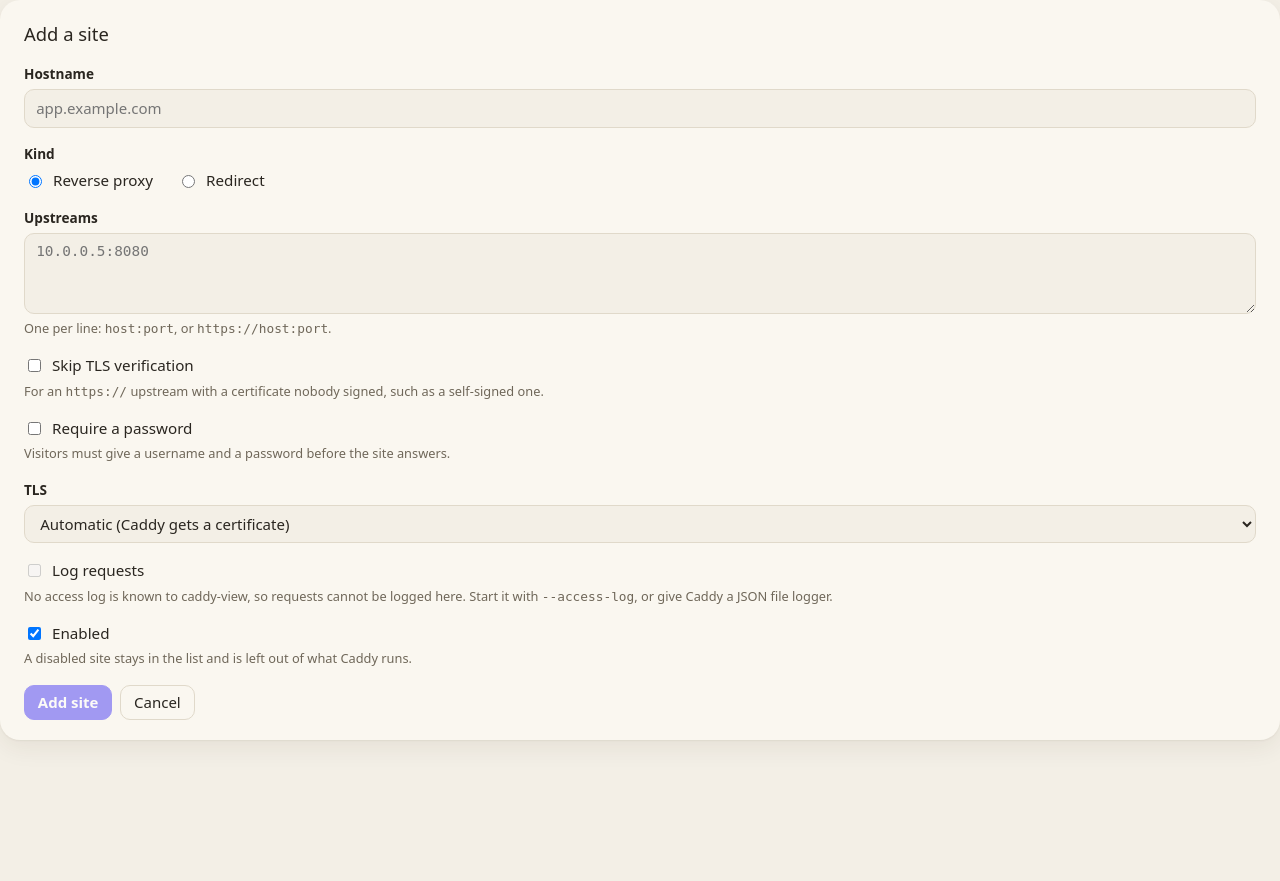
Test: SiteWizard password protection › does not offer it for a redirect, and sends none
Step 1. Type "old.example.com" into the field labelled "Hostname" → (640, 108), box [24,89,1256,128]
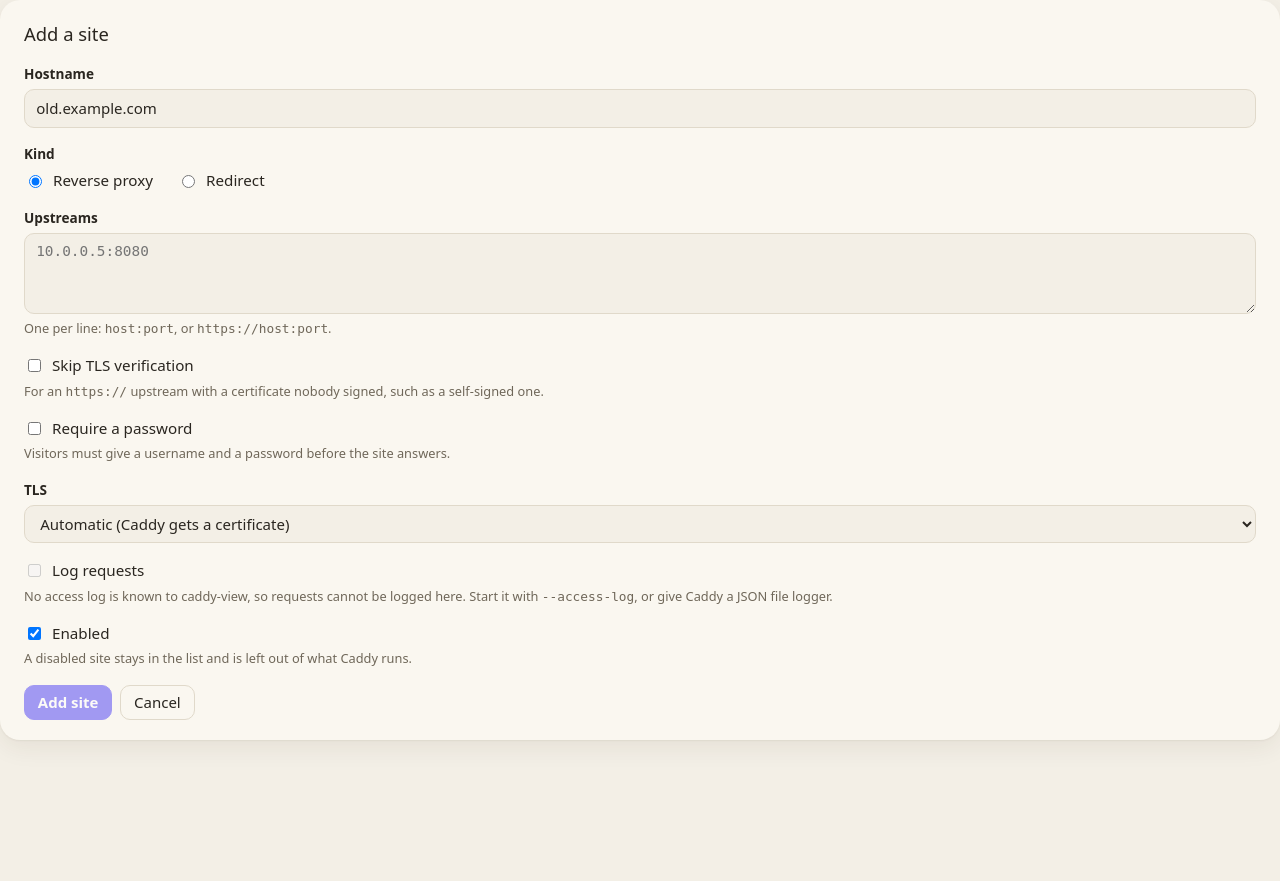
Step 2. Click the checkbox labelled "Require a password" → (34, 428), box [28,422,41,435]
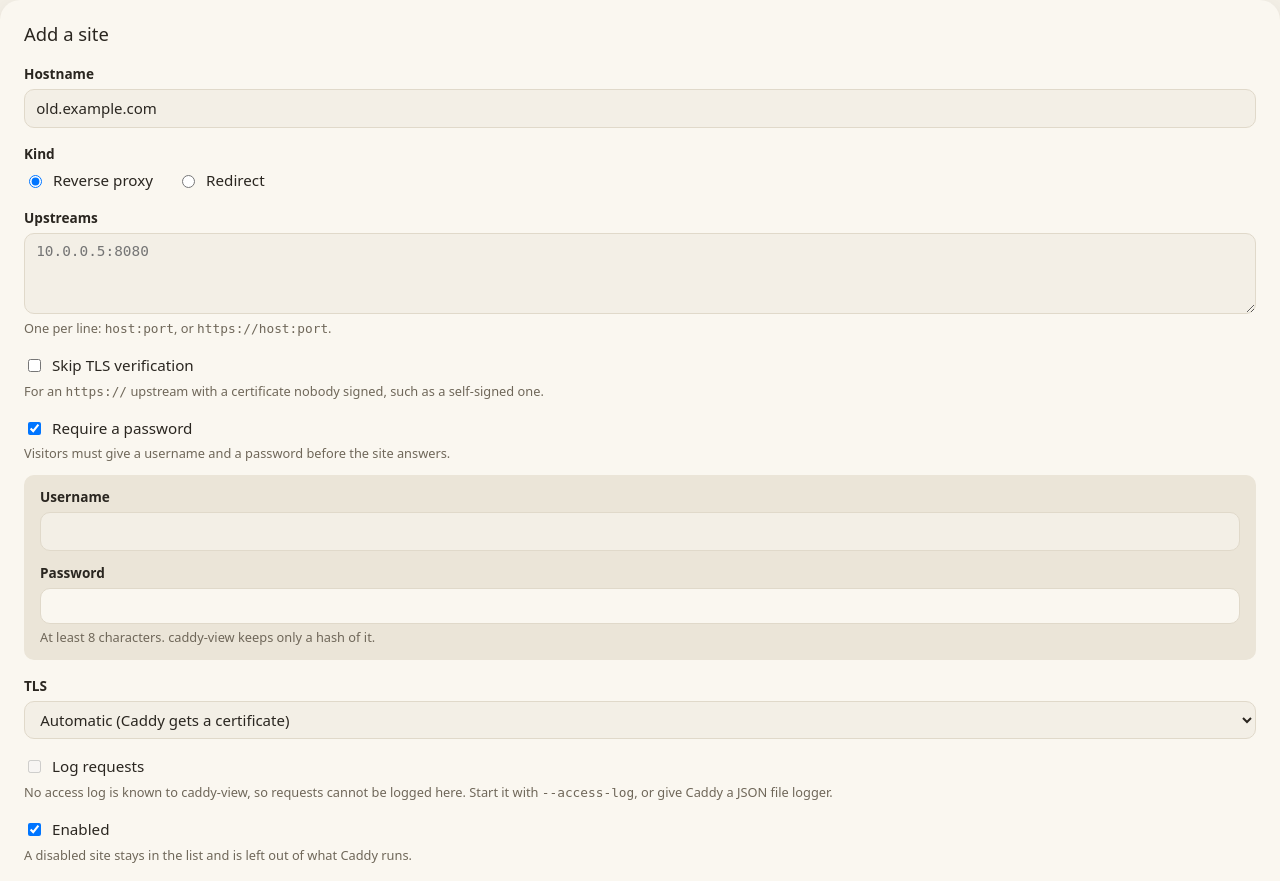
Step 3. Type "bob" into the field labelled "Username" → (640, 531), box [40,512,1240,551]
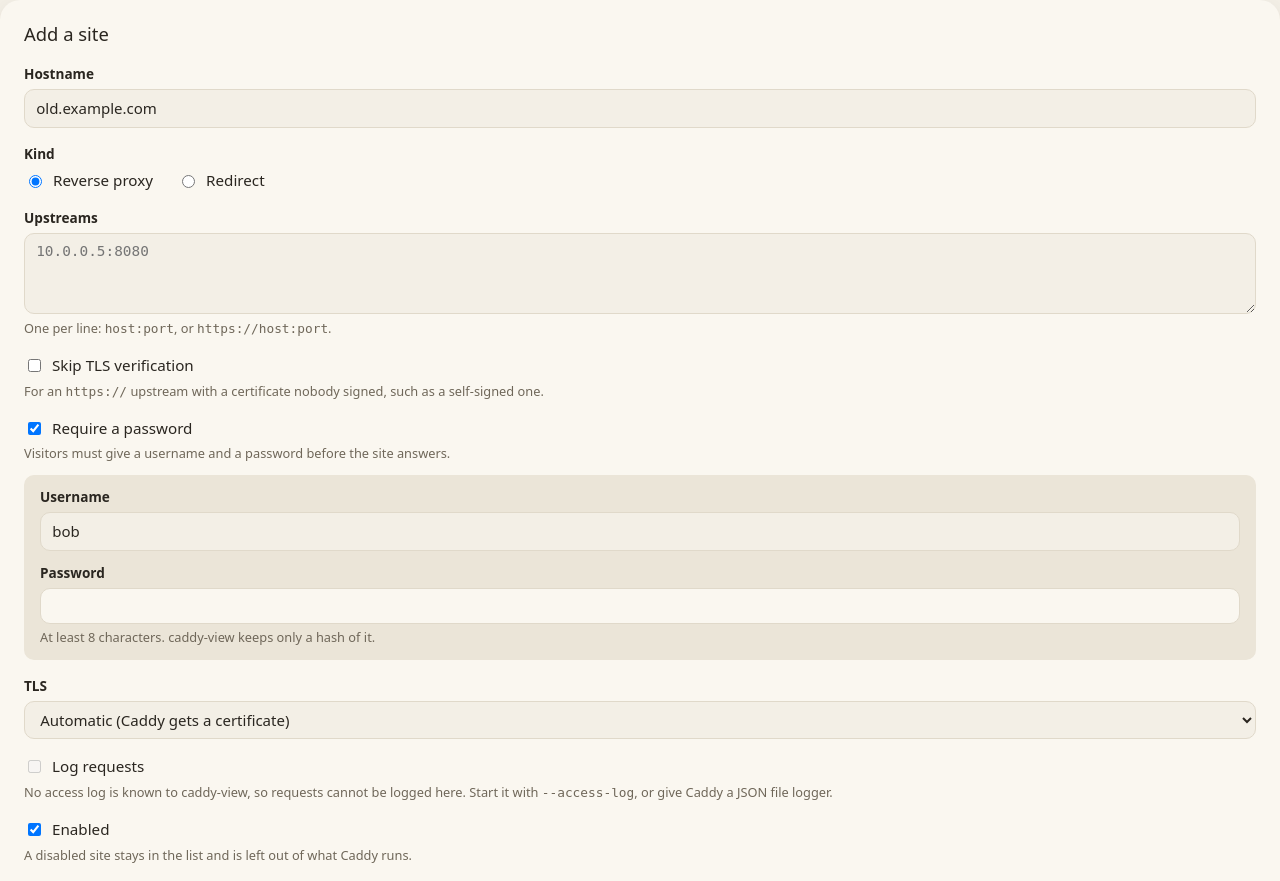
Step 4. Type "correct horse" into the password field labelled "Password" → (640, 606), box [40,588,1240,624]
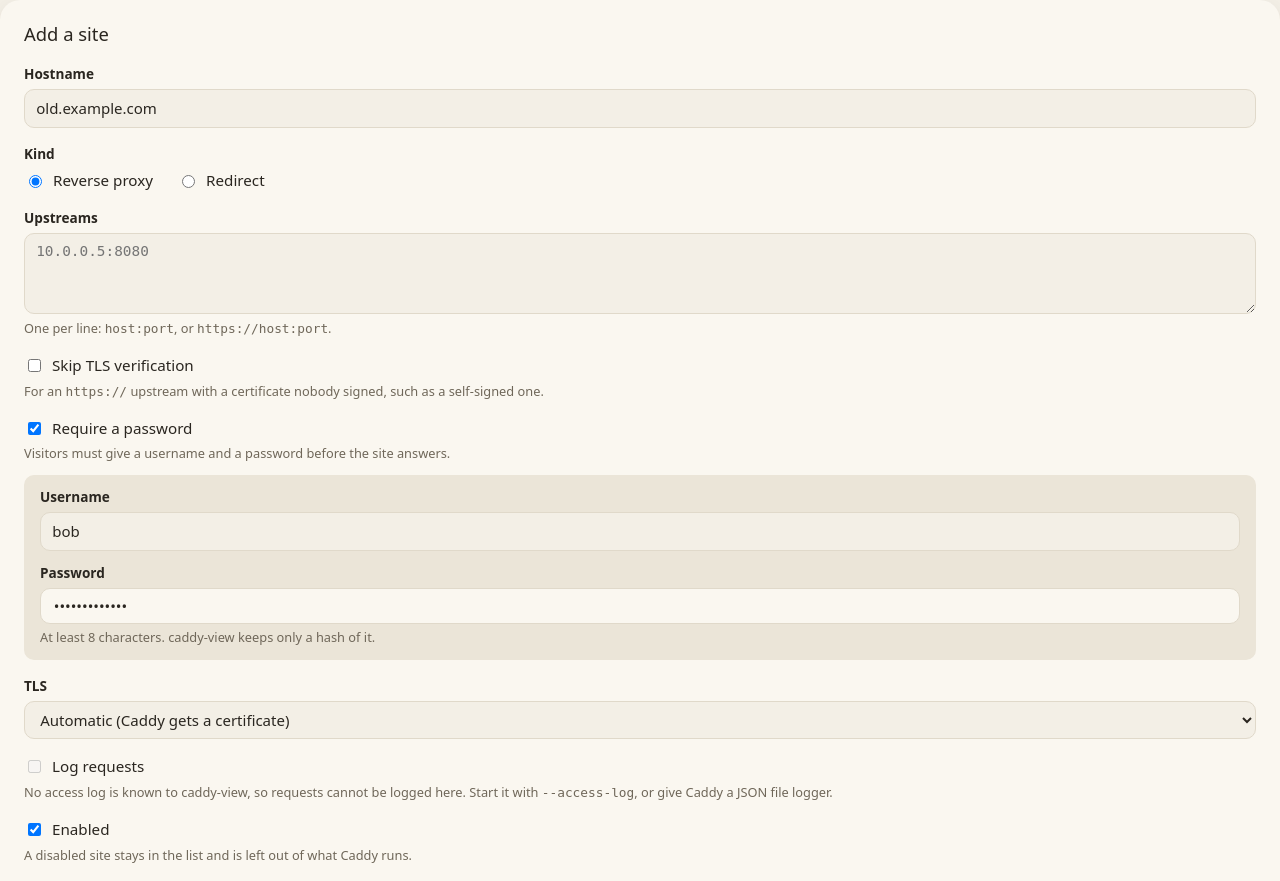
Step 5. Click the radio button labelled "Redirect" → (188, 182), box [182,175,195,188]
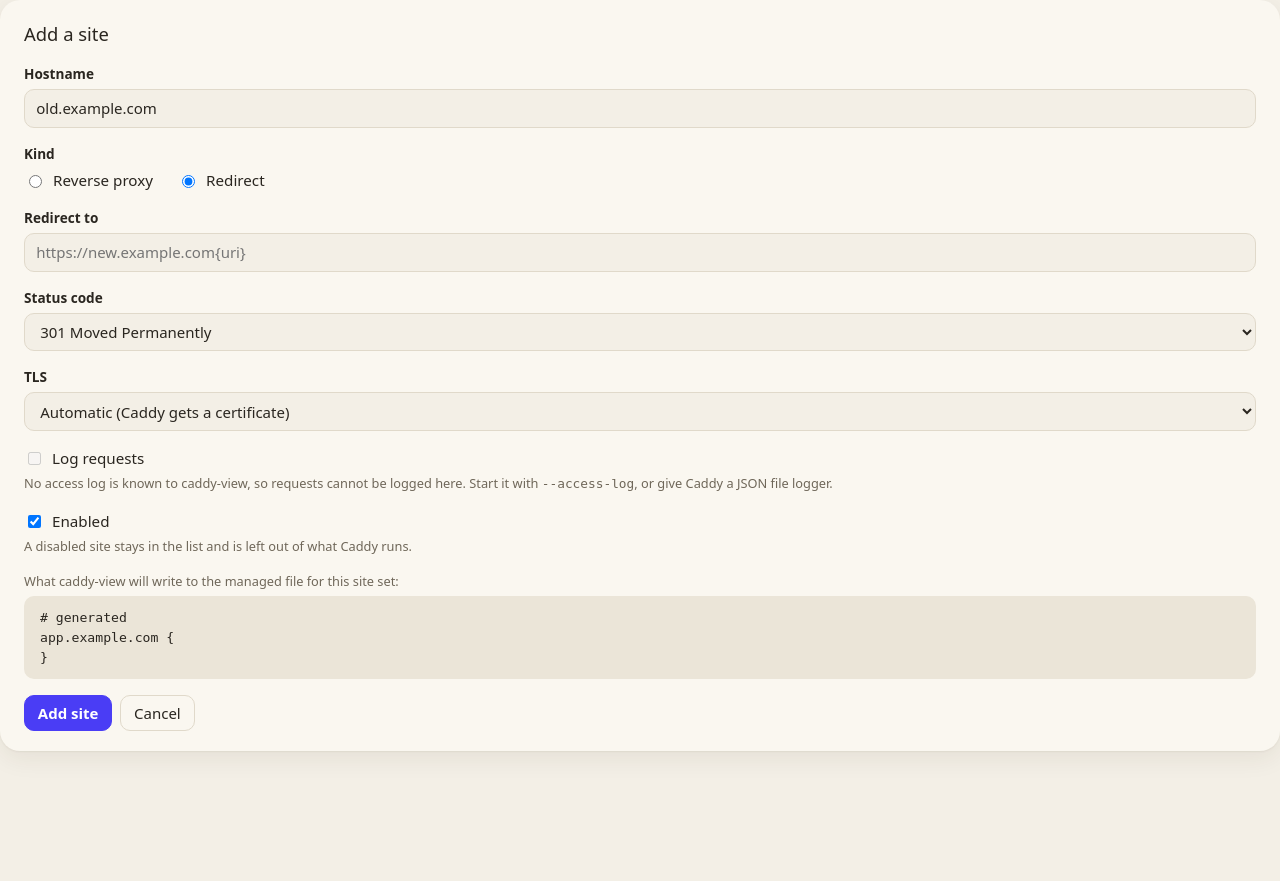
Expected: the label labelled "Require a password" is gone
